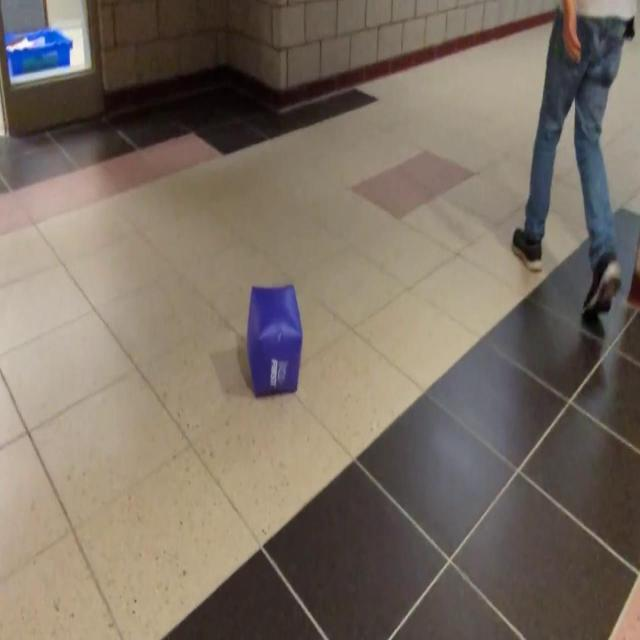frc_cube: (246, 283, 302, 398)
